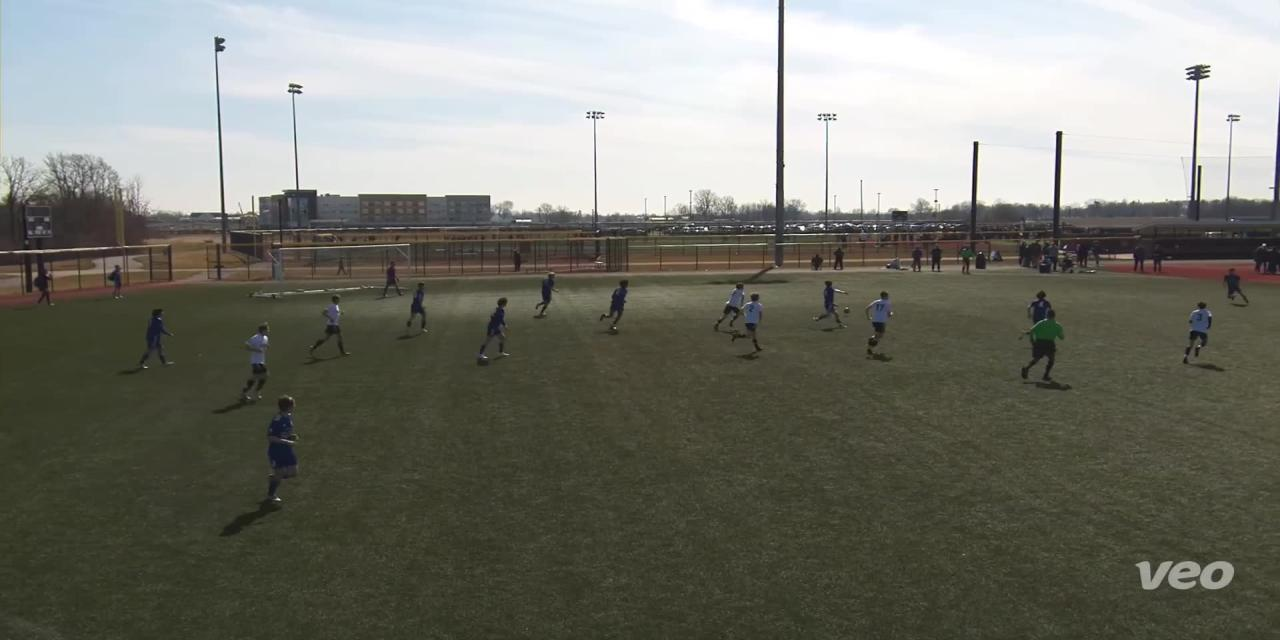goal: (247, 241, 424, 309)
sports ball: (840, 302, 853, 317)
